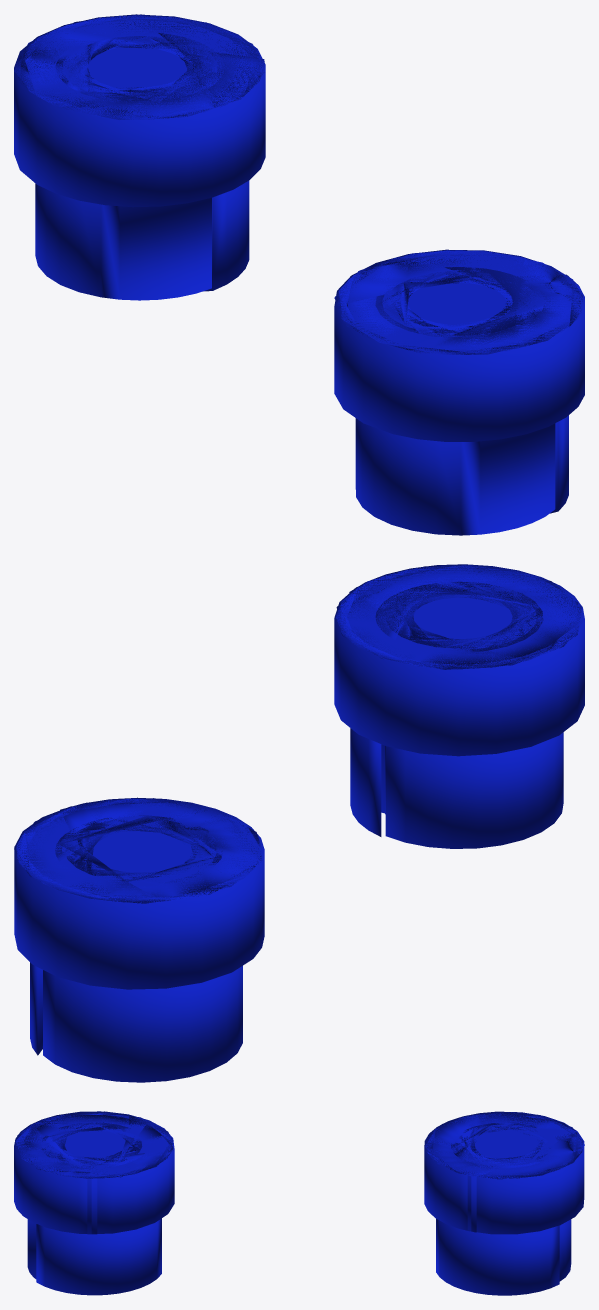
Rendered from tuyeau_element_000098.obj.
3 renders of one model, top to bottom at view 1: azimuth 30°, elevation 25°; view 2: azimuth 150°, elevation 25°; view 3: azimuth 270°, elevation 25°, orthographic. The views are drawn at different scales.
Parts seen in each view (by area): view 1: tuyeau1_Cube.014, tuyeau2_Cube.017; view 2: tuyeau2_Cube.017, tuyeau1_Cube.014; view 3: tuyeau1_Cube.014, tuyeau2_Cube.017.
Boxes of the visible parts, x1,y1,x2,y2 form: tuyeau1_Cube.014: (14,14,265,300); tuyeau2_Cube.017: (334,249,584,535); tuyeau2_Cube.017: (334,564,584,848); tuyeau1_Cube.014: (14,797,264,1082); tuyeau1_Cube.014: (424,1111,584,1295); tuyeau2_Cube.017: (14,1111,174,1295).
Bounding box in the file's own units: 3538 × 2917 × 12515.
